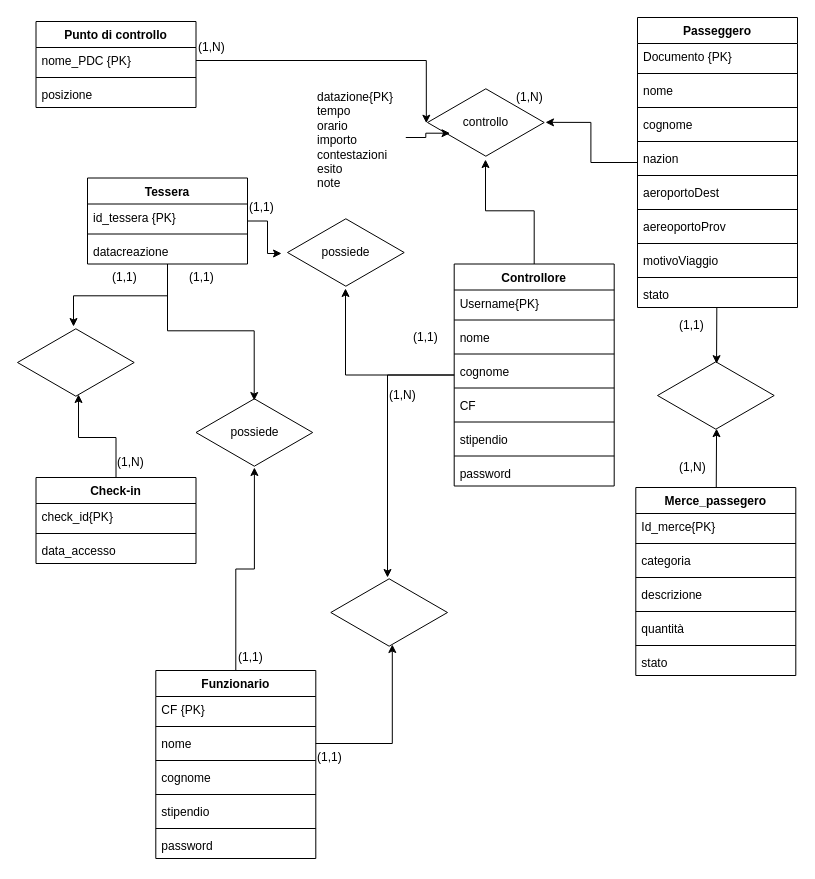
The diagram is 815 pixels wide and 879 high, and some of its shapes have lost their labels. Each missing label, with the centre of its shape:
permette: [75,362]
supervisiona: [389,612]
trasporta: [715,395]
